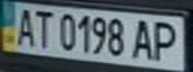0: (54, 10, 75, 52)
1: (72, 11, 93, 53)
8: (106, 15, 130, 57)
9: (90, 13, 109, 55)
A: (127, 16, 157, 61), (12, 4, 39, 47)
P: (148, 18, 187, 62)
T: (30, 7, 57, 48)
